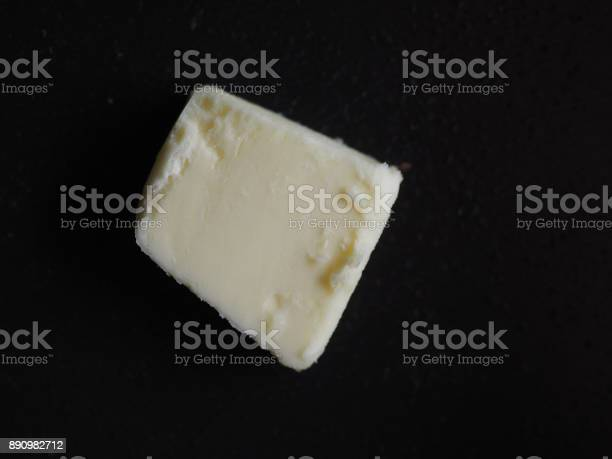Butter: (134, 89, 400, 370)
